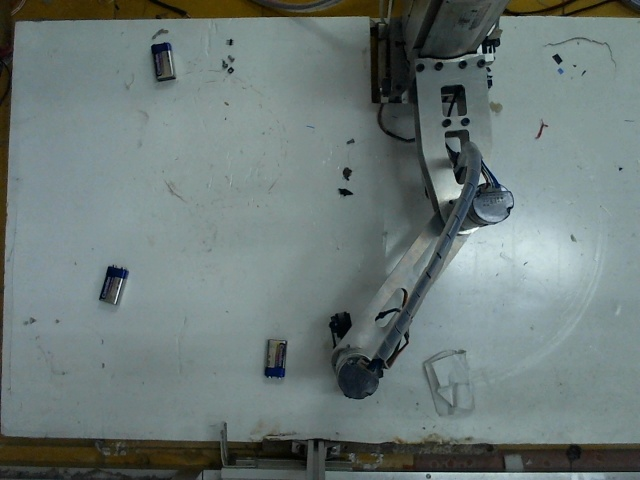battery: (259, 332, 288, 380), (144, 38, 177, 80), (100, 261, 127, 302)
